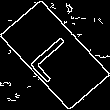L_NE: (25, 26, 85, 84)
